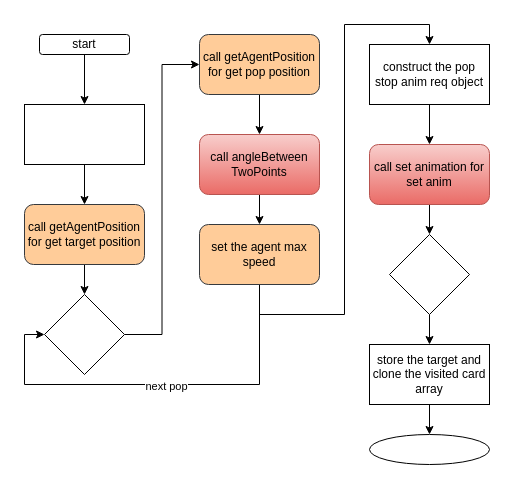
Image size: 507x482. Some labels were removed from this diagram. Here are the shapes that lost their labels. From the top down, the centre of each, then its label:
At point 84,134: "set the locked sight rng as locked attack range".
At point 429,274: "IF pop has not target id".
At point 84,334: "FOR pop grp family".
At point 429,449: "end".
